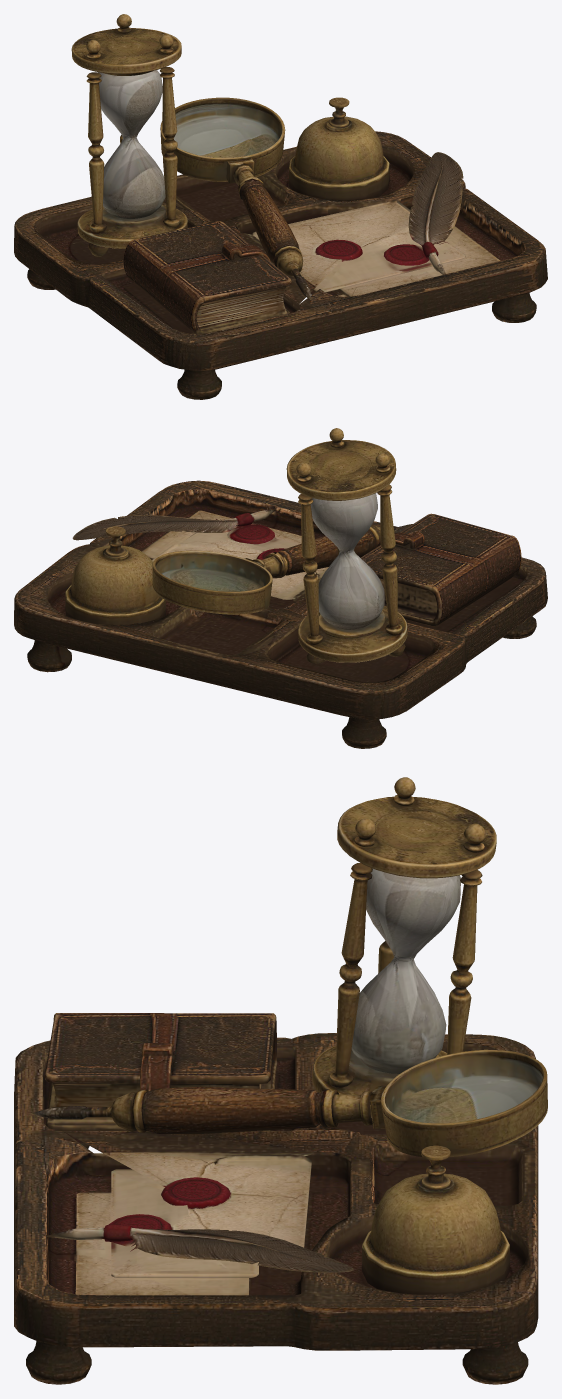
File: scholar-accessories.glb
3 views of the same model, one above another, from view 1: azimuth 30°, elevation 25°; view 2: azimuth 150°, elevation 25°; view 3: azimuth 270°, elevation 25° (orthographic). The views are drawn at different scales.
Visible parts, largest first — view 1: ae5e4985_7526_4781_a298_d8a8154a47e2; view 2: ae5e4985_7526_4781_a298_d8a8154a47e2; view 3: ae5e4985_7526_4781_a298_d8a8154a47e2.
Part boxes in pixels (bbox=[...]): ae5e4985_7526_4781_a298_d8a8154a47e2: bbox=[14, 14, 547, 399]; ae5e4985_7526_4781_a298_d8a8154a47e2: bbox=[14, 428, 547, 748]; ae5e4985_7526_4781_a298_d8a8154a47e2: bbox=[14, 777, 547, 1384].
Bounding box in the file's own units: 0.9995 × 0.6372 × 0.8101.
1 material, 1 textured.
